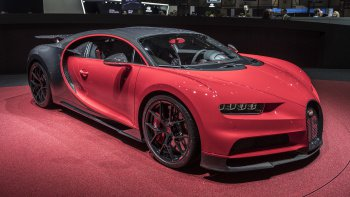car: (26, 25, 325, 176)
